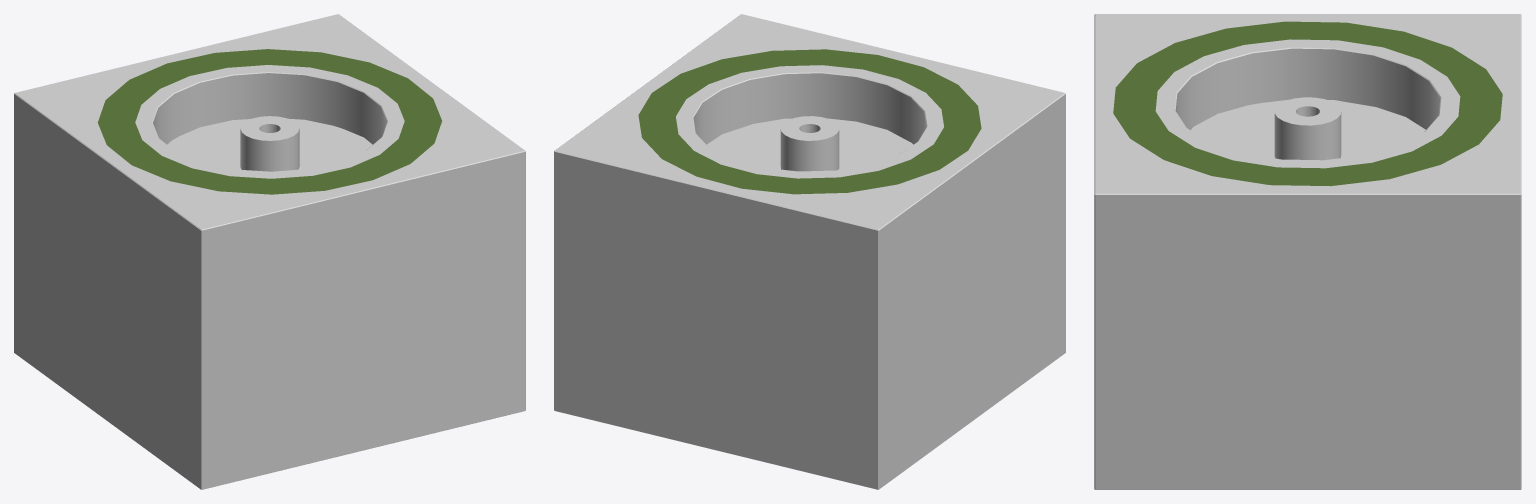
File: SM_Alargador.fbx
3 views of the same model, side by side, from view 1: azimuth 30°, elevation 25°; view 2: azimuth 150°, elevation 25°; view 3: azimuth 270°, elevation 25° (orthographic). The views are drawn at different scales.
Parts seen in each view (by area): view 1: SM_alargador, SM_cabezalargador; view 2: SM_alargador, SM_cabezalargador; view 3: SM_alargador, SM_cabezalargador.
Part boxes in pixels (x1,y1,x2,y2): SM_alargador: [14, 14, 525, 489]; SM_cabezalargador: [240, 116, 299, 171]; SM_alargador: [554, 14, 1065, 489]; SM_cabezalargador: [780, 116, 839, 171]; SM_alargador: [1094, 14, 1521, 489]; SM_cabezalargador: [1274, 97, 1341, 160].
Bounding box in the file's own units: 15.61 × 11.94 × 15.61.
